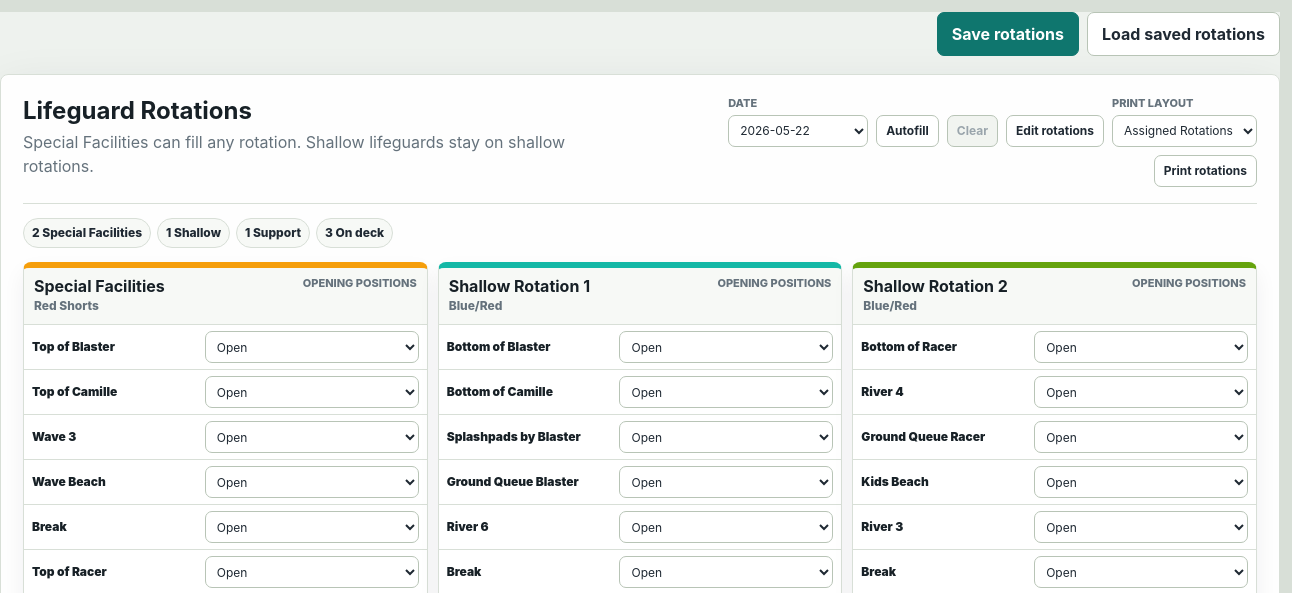
Scenario: RotationBuilder persistence › prints a rotation handout without employee names
Select "Rotation Handout" in the dropdown labelled "Print layout" at (1184, 131), box [1112,115,1257,147]
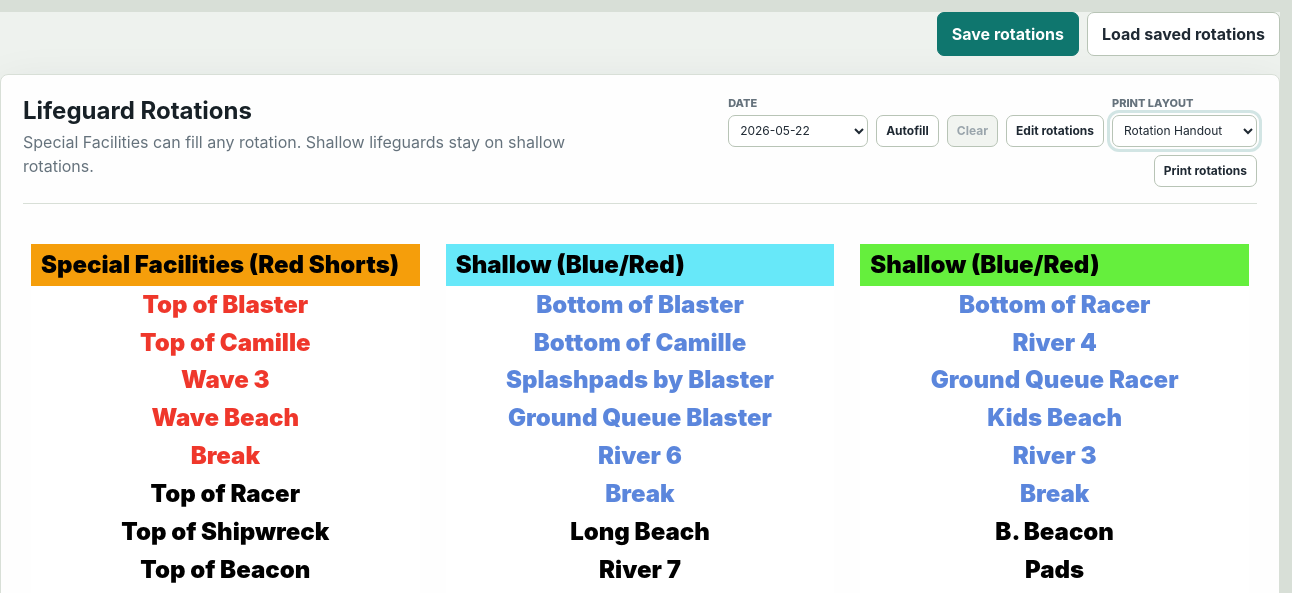
Check: the list item "Top of Blaster" is shown, box [142,290,308,319]
Check: the heading "Special Facilities (Red Shorts)" is shown, box [31,244,420,286]
